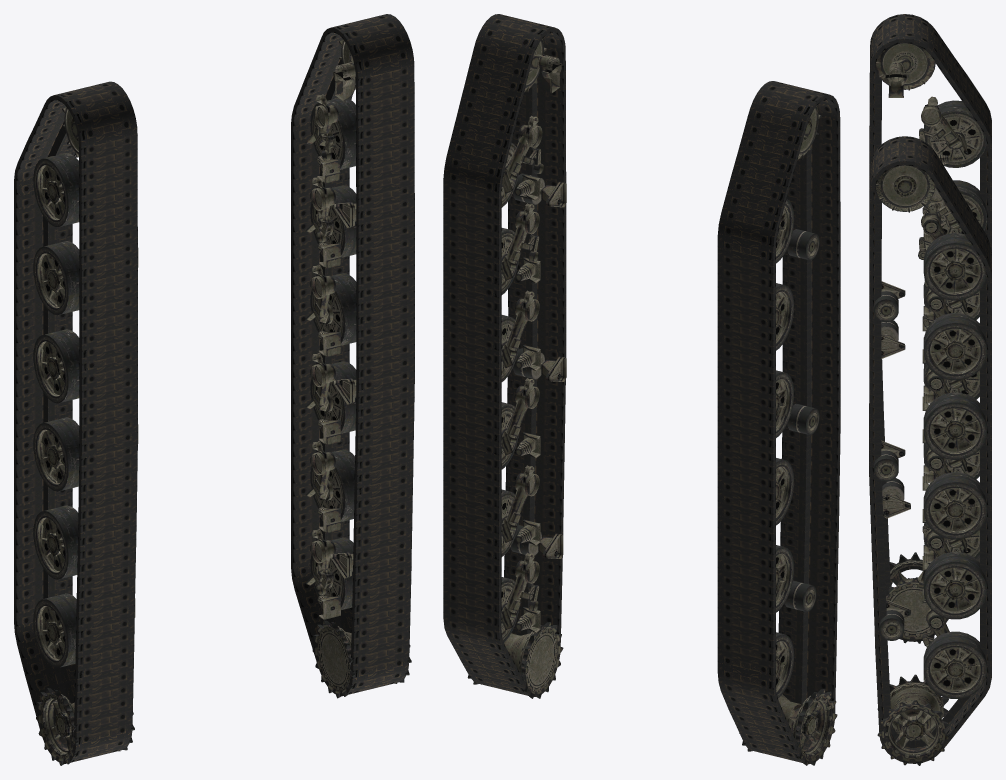
File: Chassis.glb
3 views of the same model, side by side, from view 1: azimuth 30°, elevation 25°; view 2: azimuth 150°, elevation 25°; view 3: azimuth 270°, elevation 25° (orthographic). The views are drawn at different scales.
Visible parts, largest first — view 1: set_0_group_0, set_1_group_0, set_3_group_0, set_2_group_0; view 2: set_0_group_0, set_1_group_0, set_3_group_0, set_2_group_0; view 3: set_3_group_0, set_1_group_0, set_2_group_0, set_0_group_0.
Part boxes in pixels (left/top/right/bottom): set_0_group_0: left=14, top=81, right=137, bottom=763; set_1_group_0: left=291, top=14, right=414, bottom=696; set_3_group_0: left=305, top=38, right=411, bottom=698; set_2_group_0: left=33, top=106, right=138, bottom=765; set_0_group_0: left=717, top=81, right=840, bottom=764; set_1_group_0: left=443, top=14, right=566, bottom=696; set_3_group_0: left=467, top=38, right=566, bottom=698; set_2_group_0: left=739, top=105, right=837, bottom=765; set_3_group_0: left=874, top=165, right=986, bottom=765; set_1_group_0: left=869, top=136, right=991, bottom=763; set_2_group_0: left=875, top=43, right=986, bottom=643; set_0_group_0: left=869, top=14, right=991, bottom=641.
Bounding box in the file's own units: 3.19 × 6.07 × 1.12.
4 materials, 4 textured.
